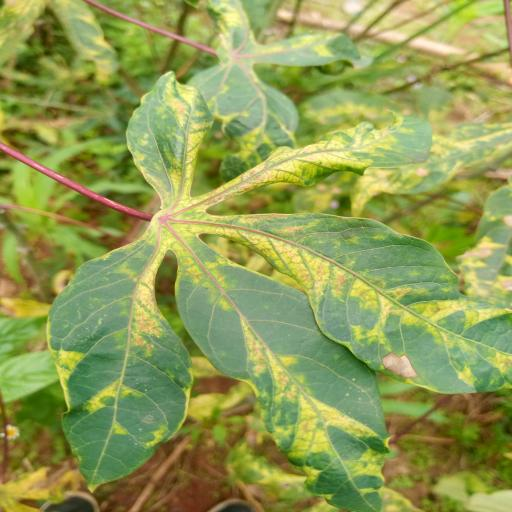Cassava_Mosaic: (43, 62, 512, 500)
